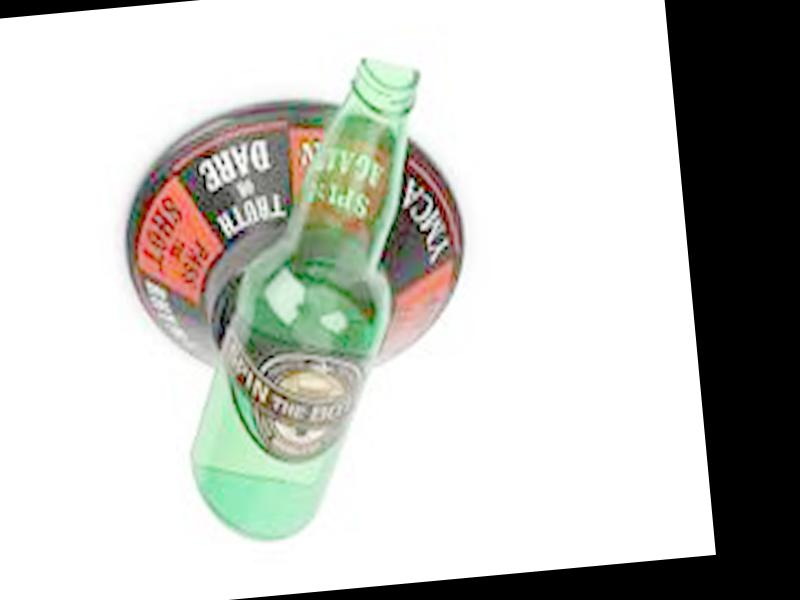Beer: (152, 52, 458, 546)
